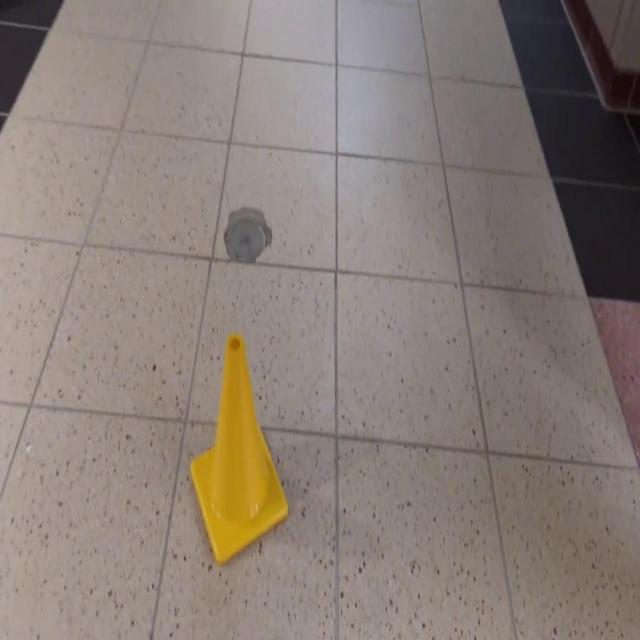frc_cone: (190, 335, 288, 568)
